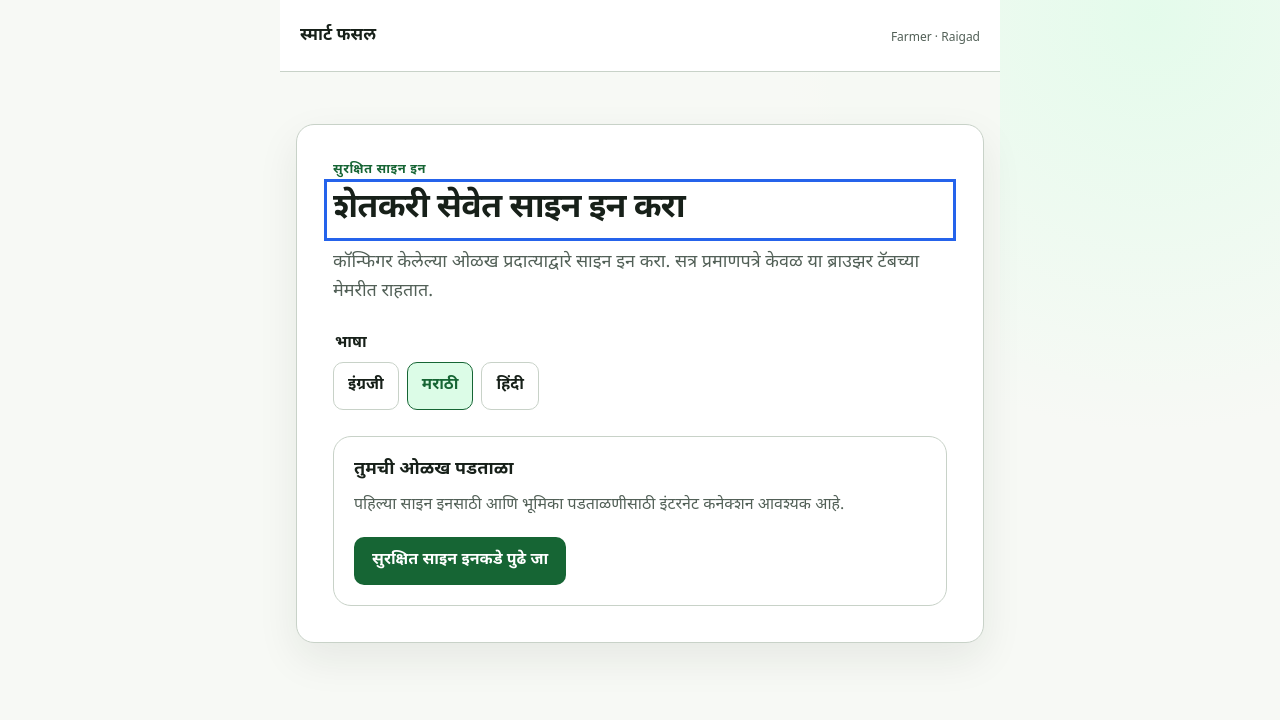
Farmer authentication gateway › renders the truthful denied result from role establishment
Click the button "सुरक्षित साइन इनकडे पुढे जा".
click(460, 561)  # box [354,537,566,585]
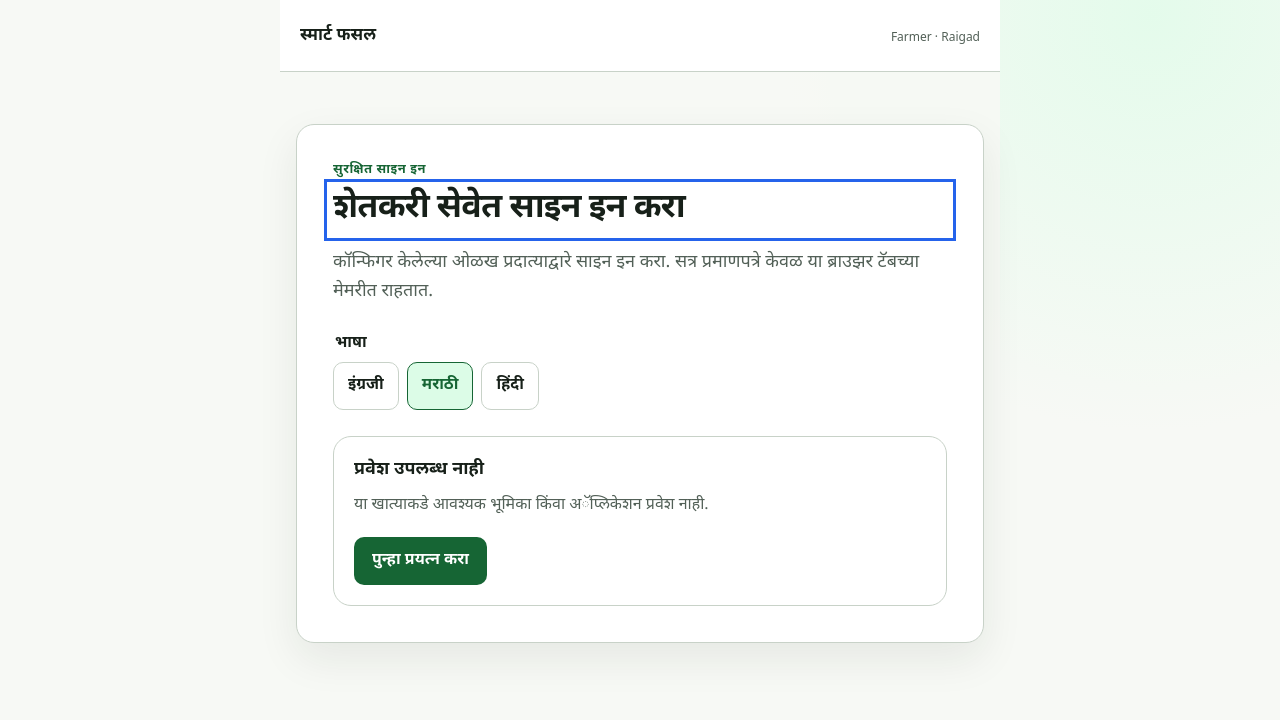
Result: the heading "प्रवेश उपलब्ध नाही" is shown at [354,458,484,481]
Result: the button "पुन्हा प्रयत्न करा" is shown at [354,537,487,585]
